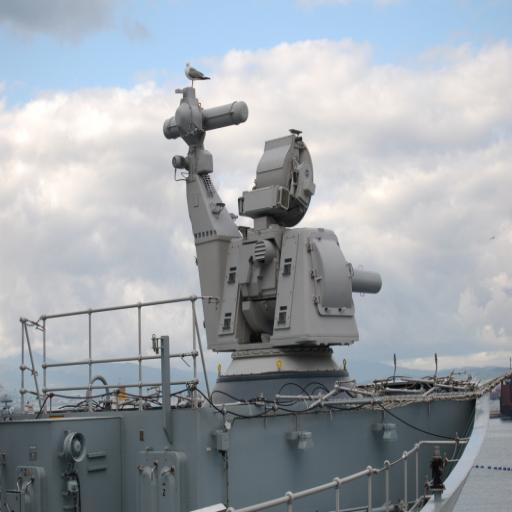Portanaves: (9, 60, 496, 495)
